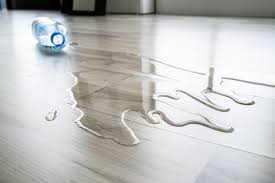Wet-floor: (67, 72, 261, 140), (56, 43, 219, 117)
